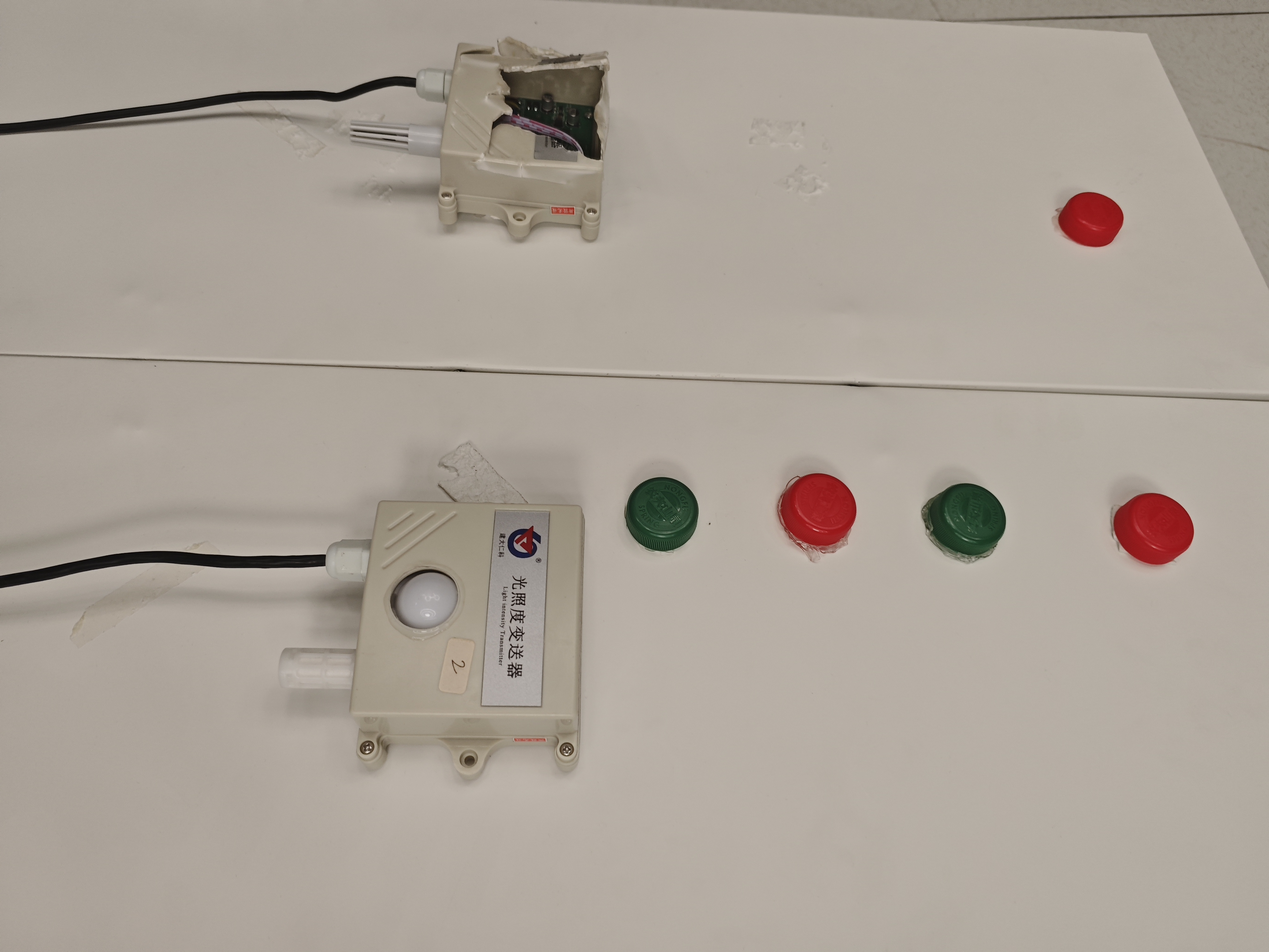red_warning: (730, 440, 902, 571), (1098, 467, 1209, 578), (1032, 182, 1162, 265)
sensor_damage: (331, 19, 739, 280)
